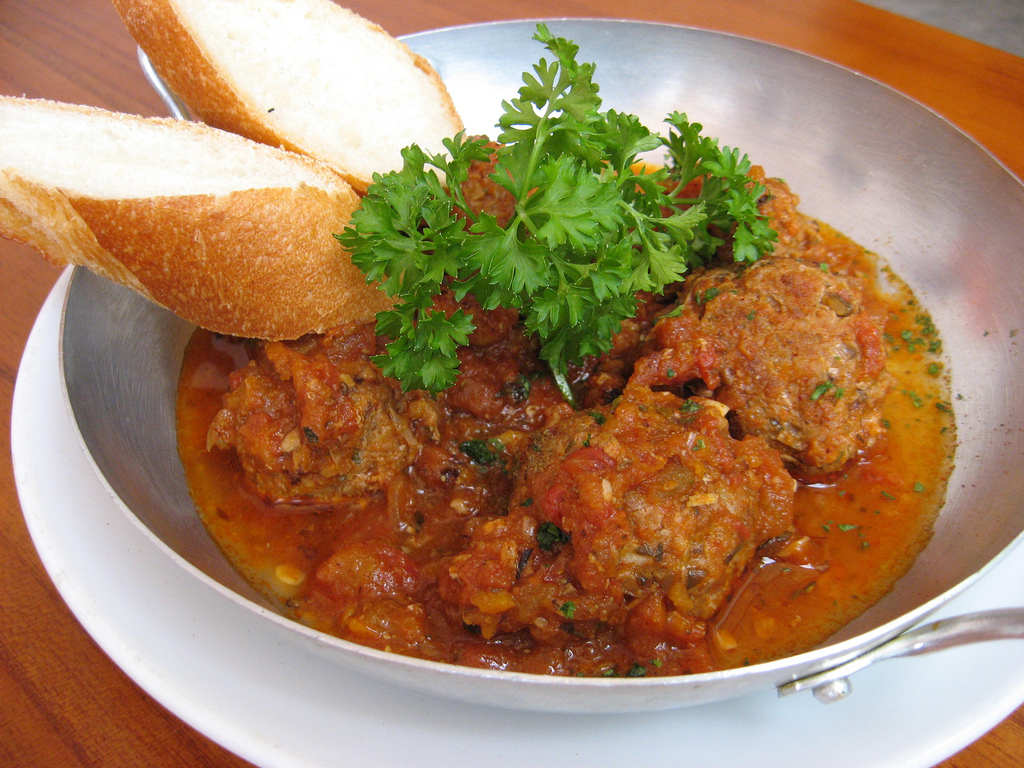slice of bread: (4, 92, 401, 333), (123, 1, 460, 185)
